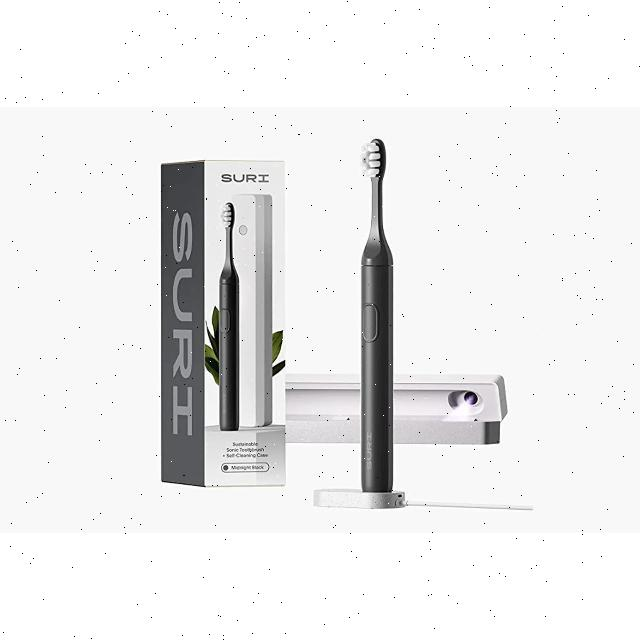toothbrush: (337, 118, 411, 500)
